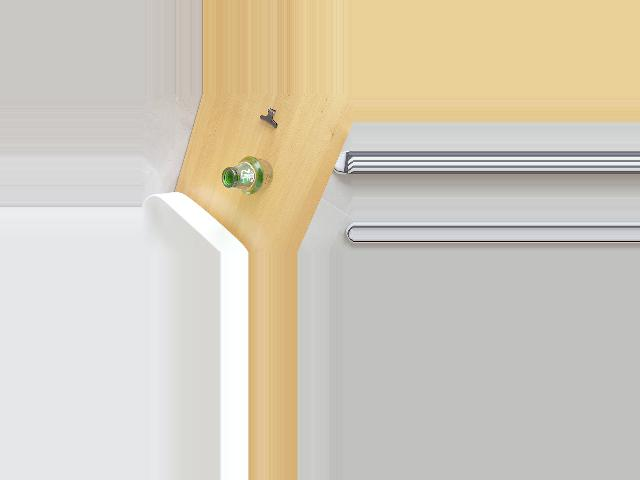beer: (222, 156, 273, 195)
